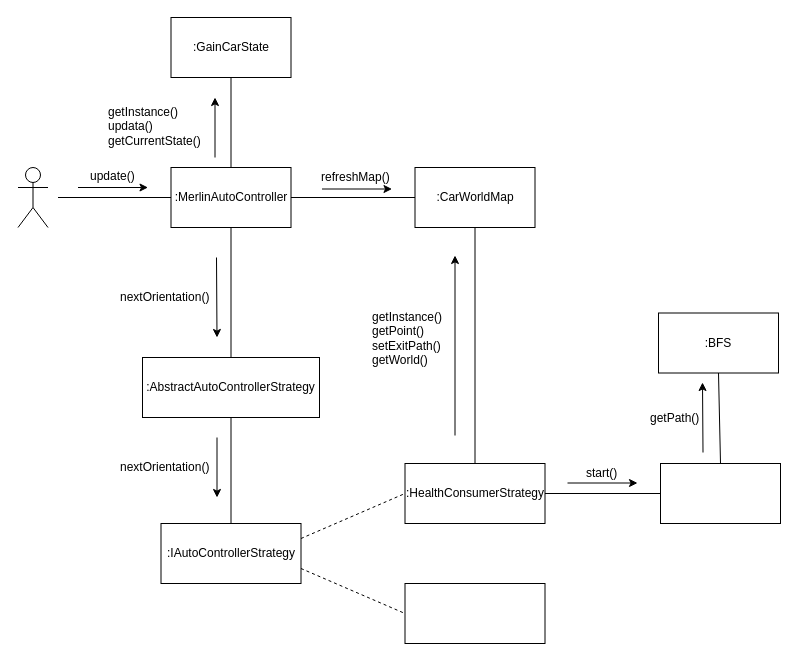
This 798x661 diagram has some shape labels left out. Each missing label, with the box of its shape:
:FuelConsumerStrategy: (404, 582, 545, 644)
:PathSolver: (660, 462, 780, 524)
Actor: (17, 166, 48, 228)
